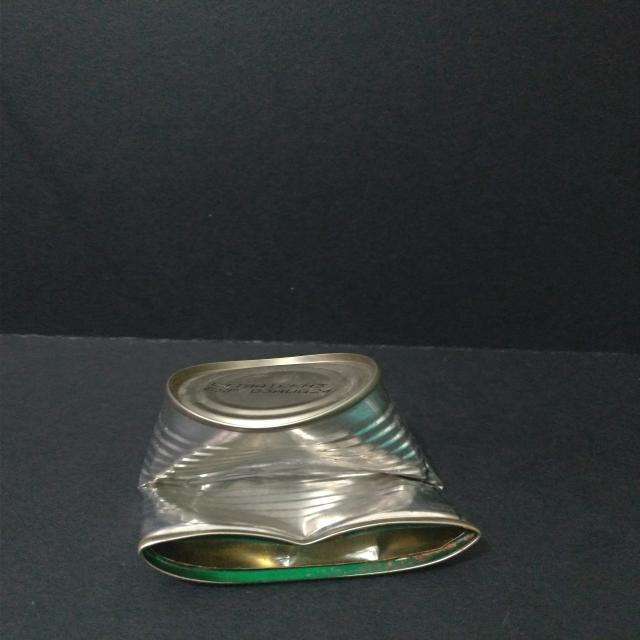metal-can: (137, 350, 486, 585)
